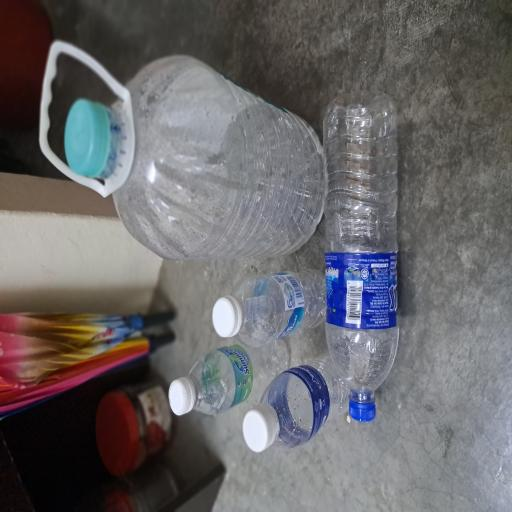plastic bottle: (188, 141, 344, 436), (86, 433, 314, 512), (46, 349, 121, 466), (73, 252, 130, 384), (124, 308, 184, 432)
plastic bottle cap: (250, 86, 310, 148), (44, 323, 80, 369), (130, 283, 162, 319), (73, 225, 101, 257), (68, 465, 85, 501)
